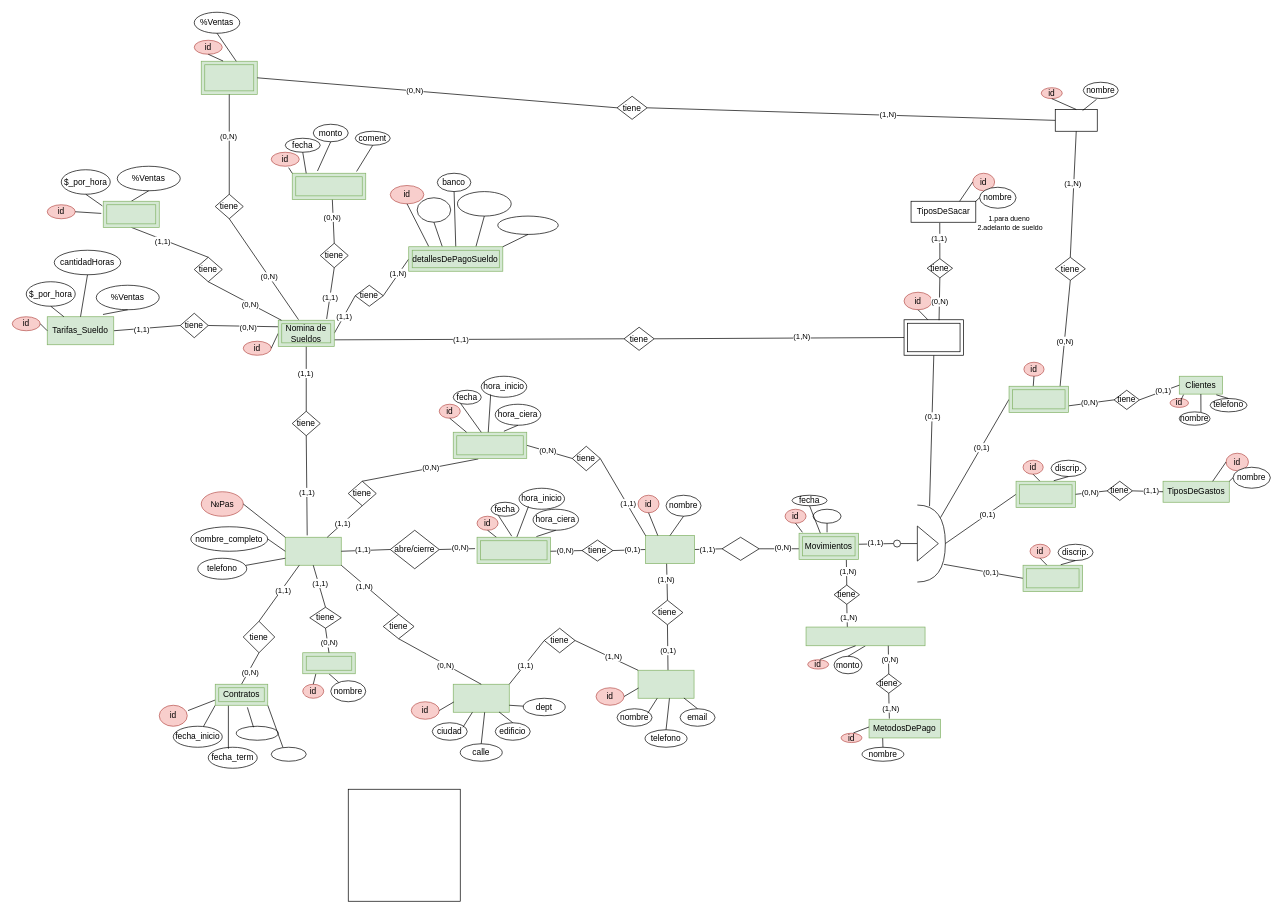
The diagram is 1283 pixels wide and 914 high, and some of its shapes have lost their labels. Each missing label, with the centre of its shape:
%Ventas Servicio: (x=229, y=77)
Archivos: (x=328, y=663)
boolean mochos llaves en %ventas super y sub: (x=404, y=845)
Cajas: (x=670, y=549)
caracter: (x=257, y=733)
CombinacionMetodosDePago: (x=865, y=636)
defecto(si/no): (x=527, y=224)
Depositos: (x=1052, y=578)
Direcciones: (x=481, y=698)
Empleados: (x=313, y=551)
Gastos: (x=1045, y=494)
hora: (x=826, y=516)
HorarioTurnos: (x=490, y=445)
Multas/Premios: (x=329, y=186)
nombreDest: (x=484, y=203)
puntos: (x=288, y=754)
registre: (x=740, y=548)
SacarDinero: (x=933, y=337)
Servicios: (x=1076, y=120)
Sucursales: (x=665, y=684)
Tarifas Individual: (x=131, y=214)
tarjeta: (x=433, y=209)
TurnosTrabajo: (x=513, y=550)
Ventas: (x=1038, y=399)
